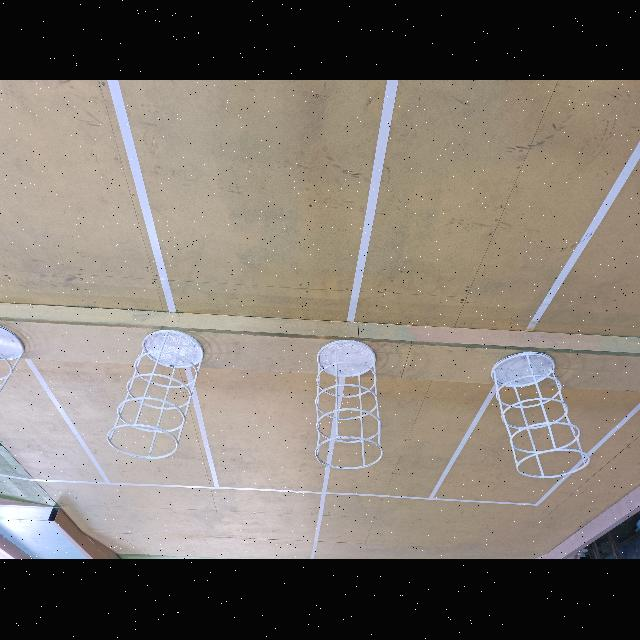S: (490, 350, 590, 479), (107, 330, 204, 460), (313, 339, 383, 471), (0, 325, 27, 396)
